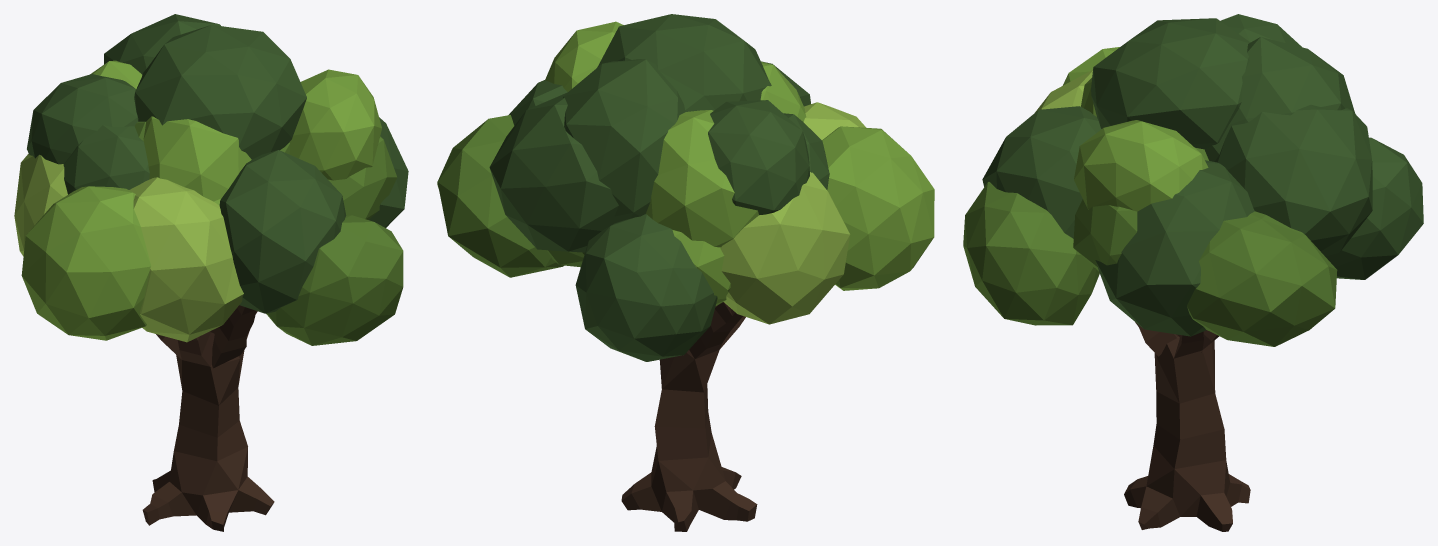
The model's file is SM_Tree_LowPoly.glb.
3 renders of one model, left to right at view 1: azimuth 30°, elevation 25°; view 2: azimuth 150°, elevation 25°; view 3: azimuth 270°, elevation 25°, orthographic. The views are drawn at different scales.
Parts seen in each view (by area): view 1: SM_Tree_LowPoly; view 2: SM_Tree_LowPoly; view 3: SM_Tree_LowPoly.
Boxes of the visible parts, x1=… form: SM_Tree_LowPoly: x1=14, y1=14, x2=408, y2=531; SM_Tree_LowPoly: x1=437, y1=14, x2=934, y2=531; SM_Tree_LowPoly: x1=963, y1=14, x2=1423, y2=531.
Bounding box in the file's own units: 4.11 × 4.53 × 3.88.
